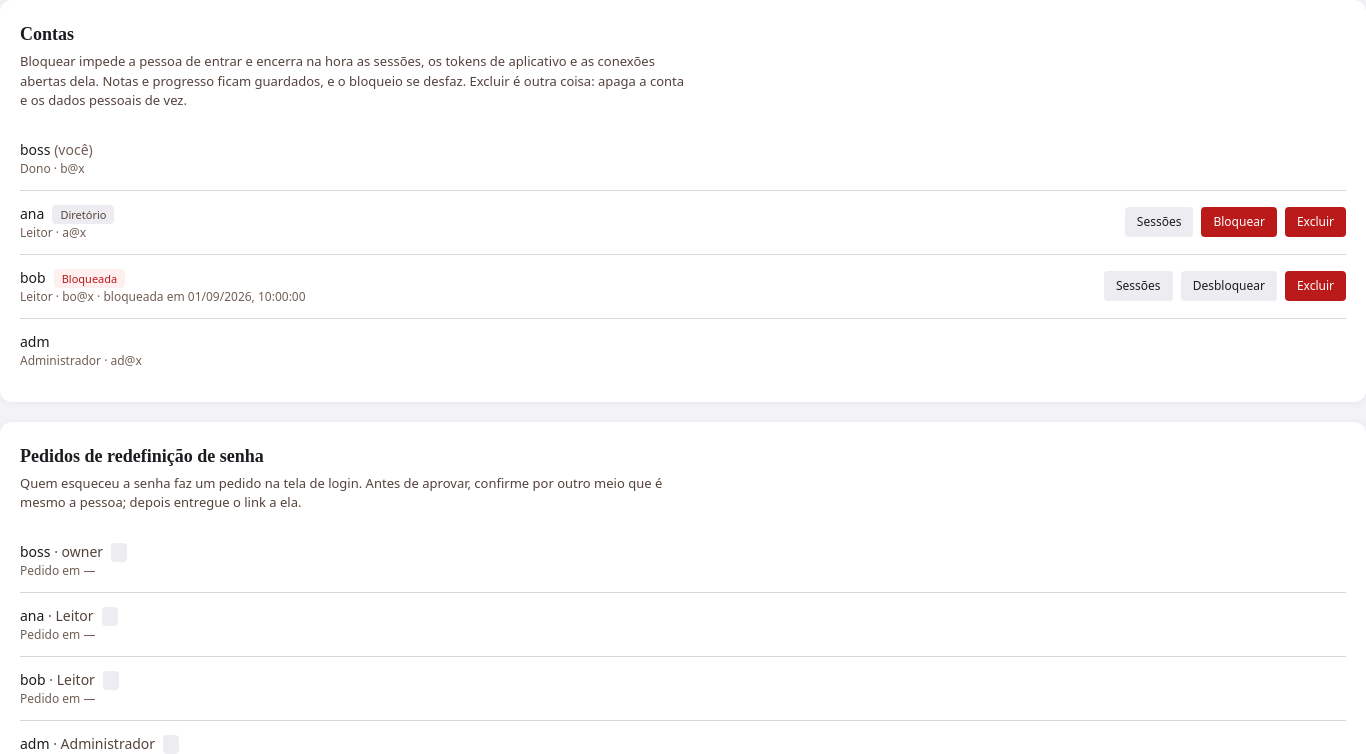
it: AccountsTab: the sessions of an account › lists the sessions of that account with the device and the use, and no address
The width and height of the screenshot is (1366, 754).
Click the button with aria-label "Sessões de ana" at (1159, 222), box [1125,207,1193,237]
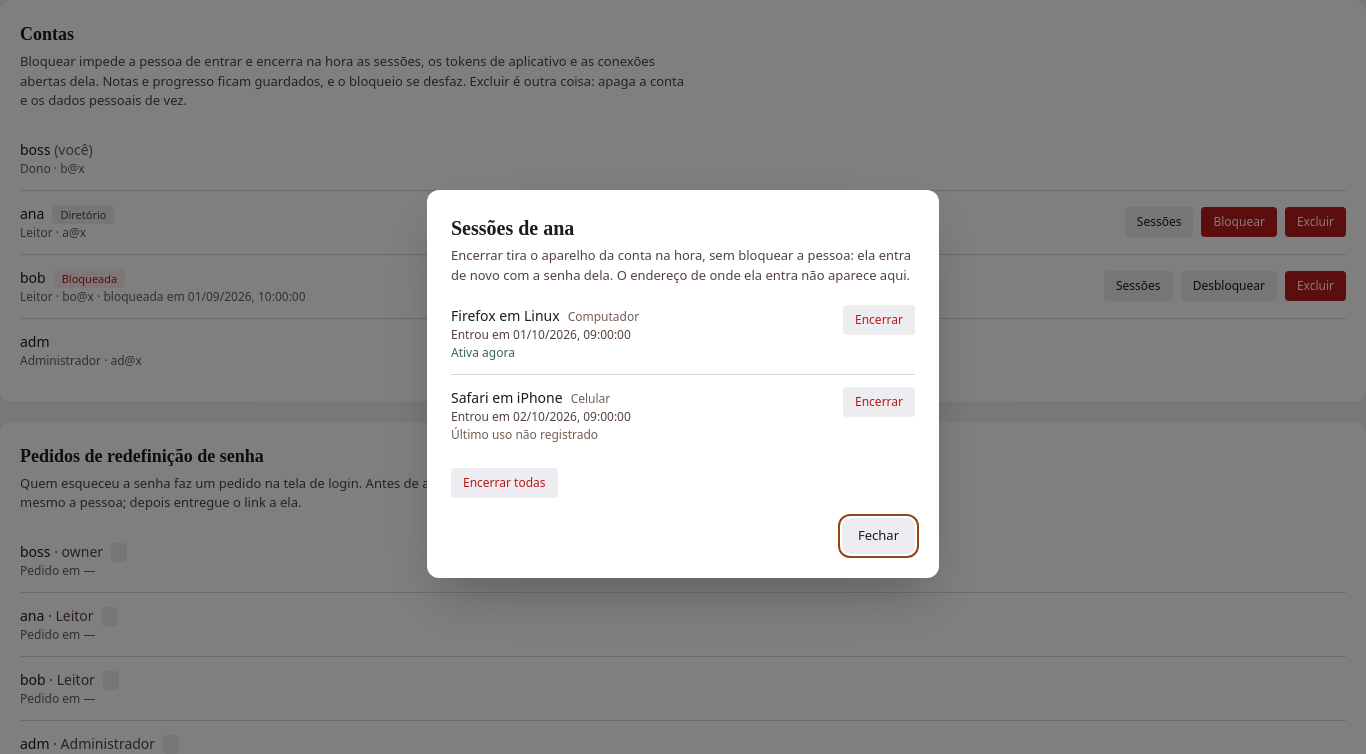
Result: the dialog shows "Sessões de ana" at [427,190,939,578]
Result: the dialog shows "Firefox em Linux" at [451,306,560,325]
Result: the dialog shows "Ativa agora" at [451,344,515,361]
